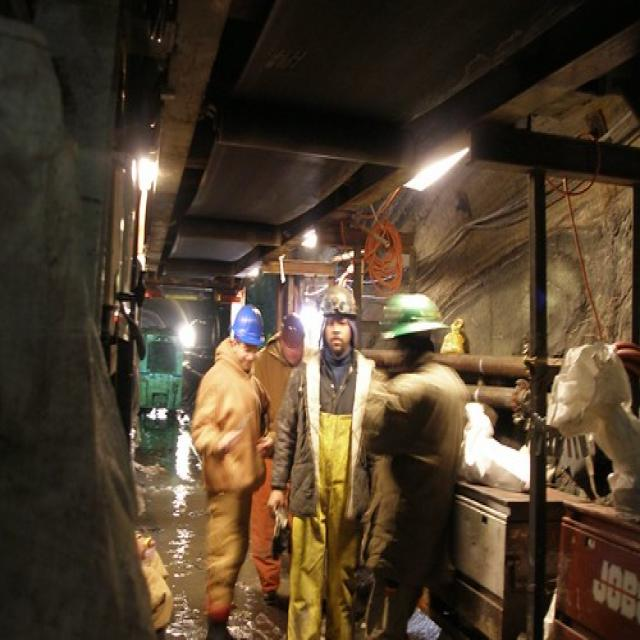Reflective-Jacket: (286, 350, 382, 543)
Safety-Helmet: (378, 282, 456, 344), (222, 297, 270, 355), (315, 282, 363, 324)
